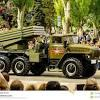MIL_SAM_TEL: (0, 25, 100, 80)
